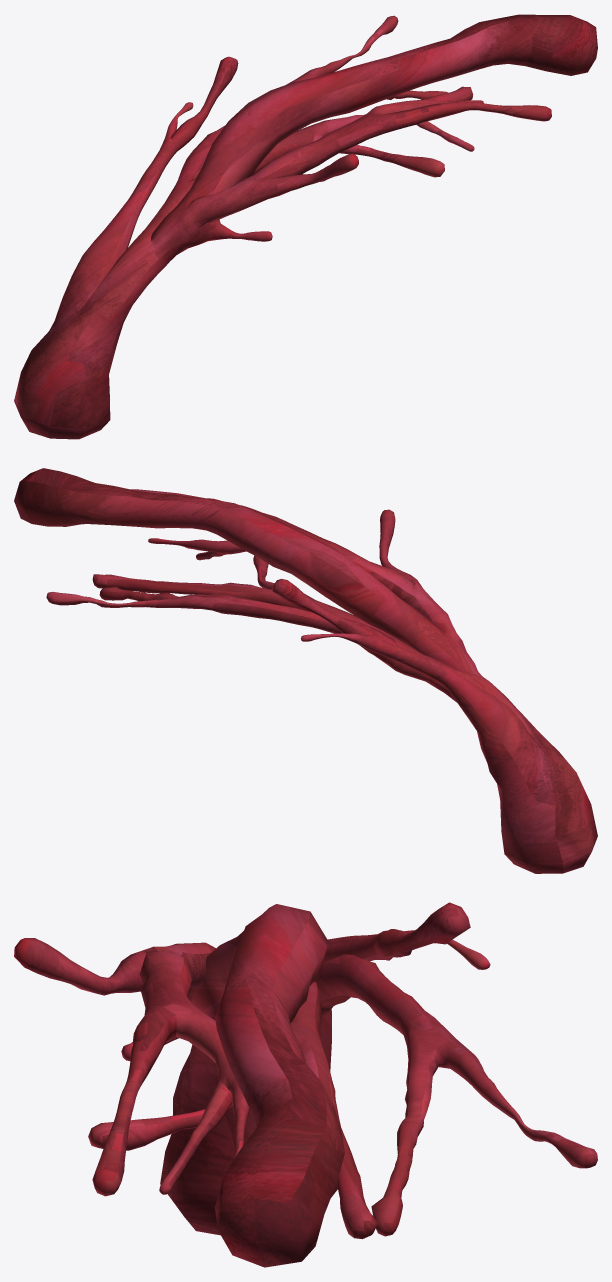
Rendered from vein-2.fbx.
The picture shows the model from 3 angles, top to bottom: view 1: azimuth 30°, elevation 25°; view 2: azimuth 150°, elevation 25°; view 3: azimuth 270°, elevation 25°; orthographic projection. The views are drawn at different scales.
Parts seen in each view (by area): view 1: VEIN 2; view 2: VEIN 2; view 3: VEIN 2.
Part boxes in pixels (x1=…): VEIN 2: x1=14, y1=14, x2=597, y2=439; VEIN 2: x1=14, y1=468, x2=597, y2=873; VEIN 2: x1=14, y1=902, x2=597, y2=1267.
Bounding box in the file's own units: 1729 × 830 × 821.
